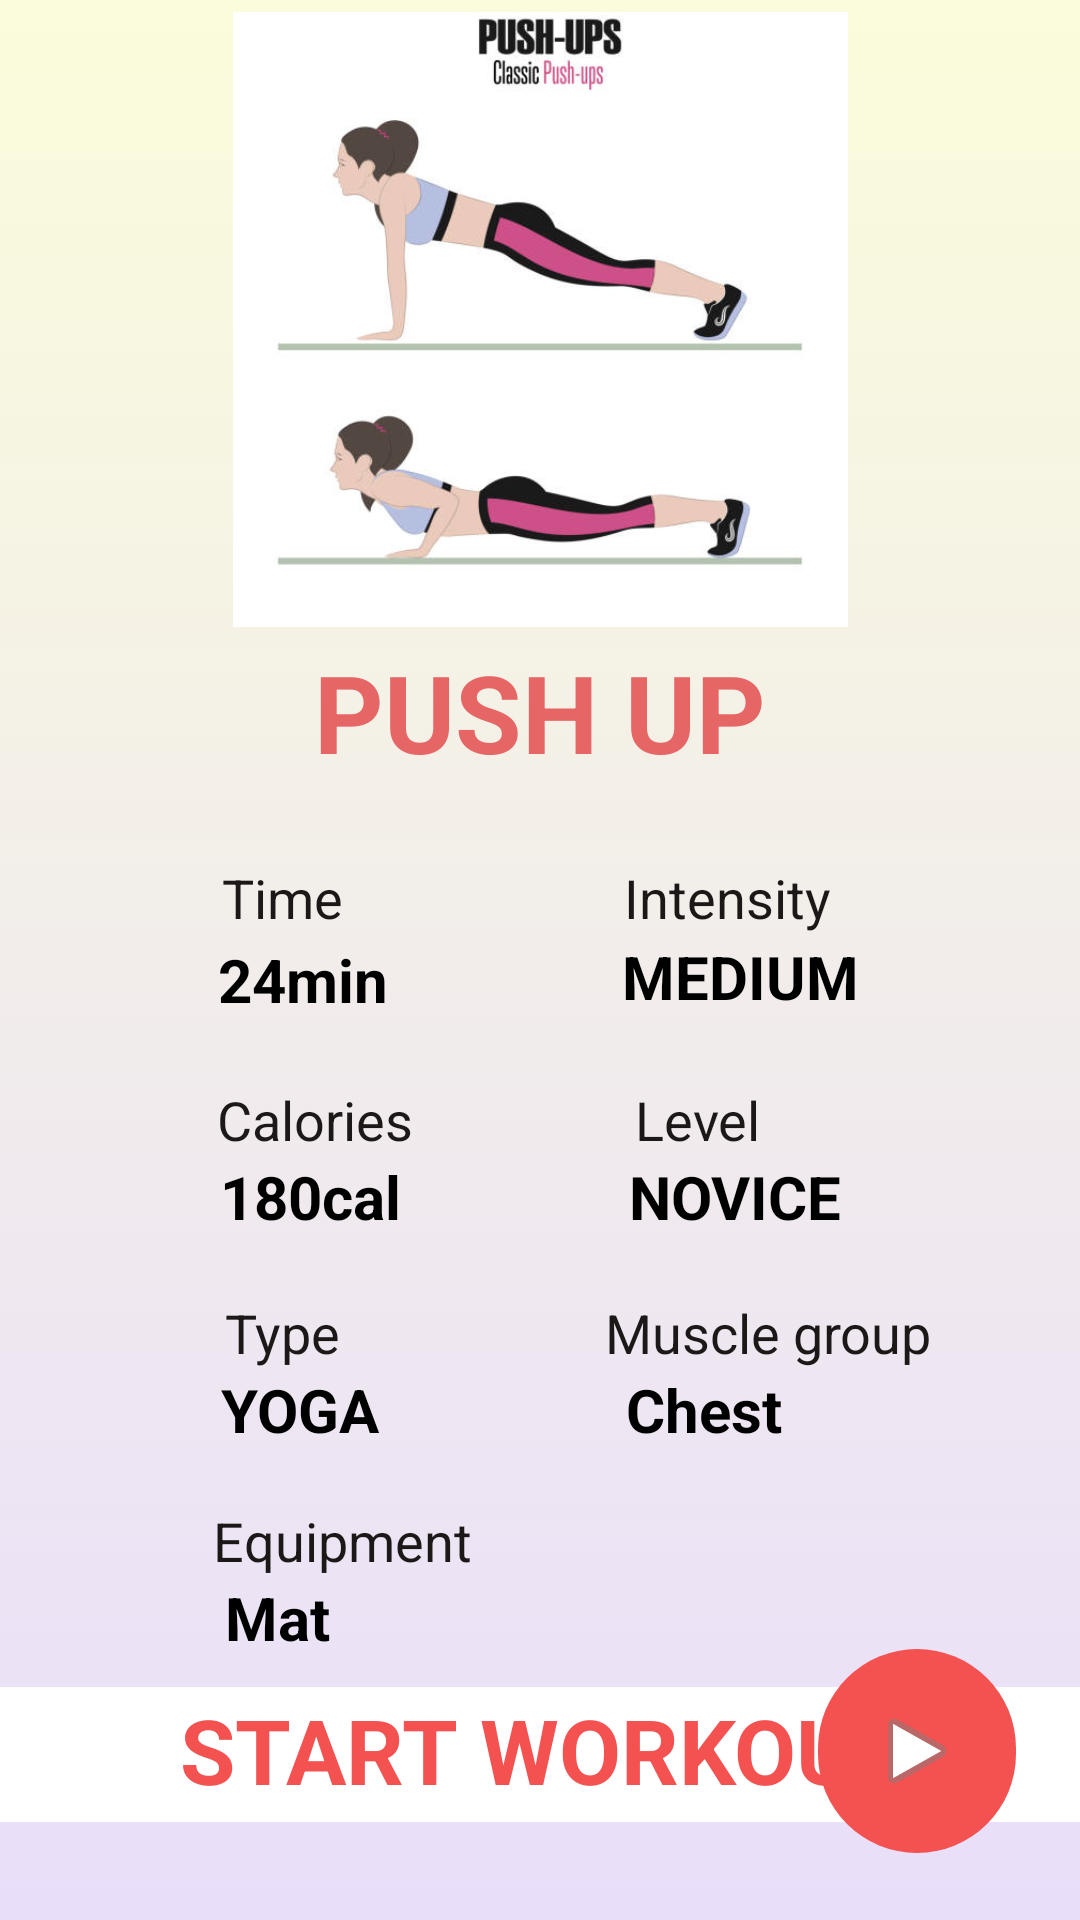

Icon bounding boxes for this 1080w x 1920h phone screenshot, format (x1, y1, x2, y2):
play: (818, 1649, 1016, 1853)
